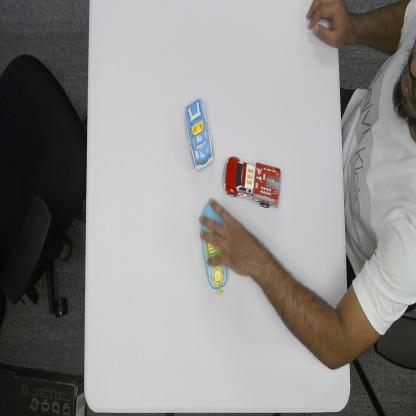Arm: (258, 246, 349, 372)
Boat: (200, 199, 230, 296)
Car: (183, 96, 215, 174)
Firetruck: (222, 154, 284, 210)
Hand: (198, 197, 252, 280), (305, 0, 341, 50)
